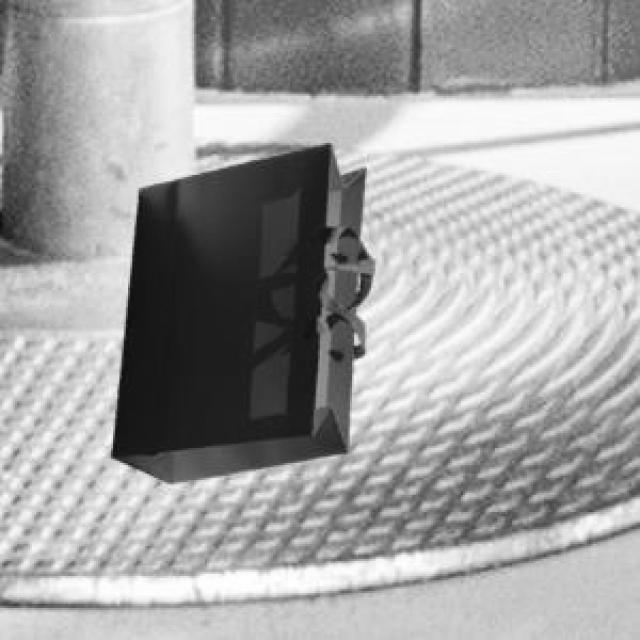paper: (109, 141, 371, 478)
